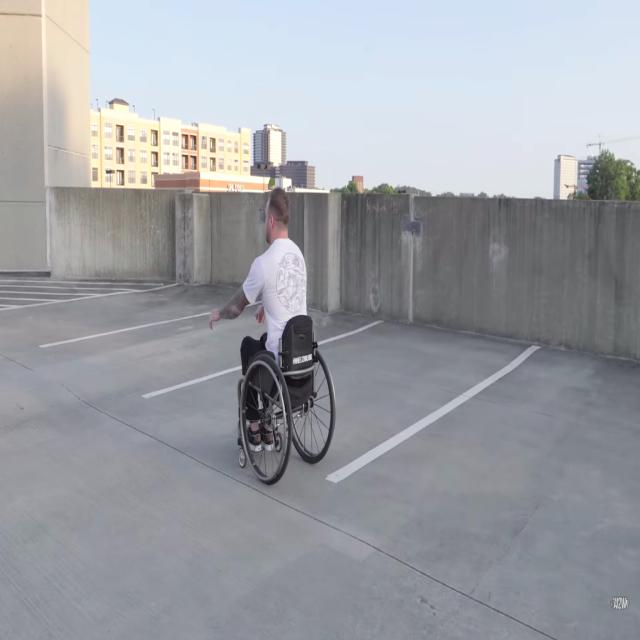wheelchairs: (227, 316, 338, 486)
